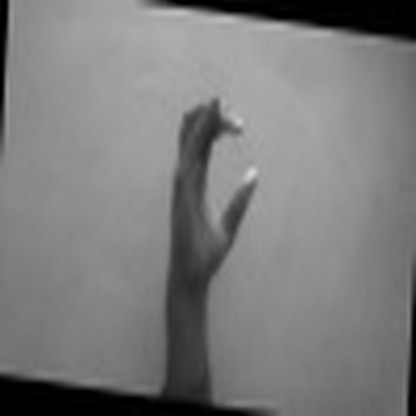c: (163, 90, 263, 275)
